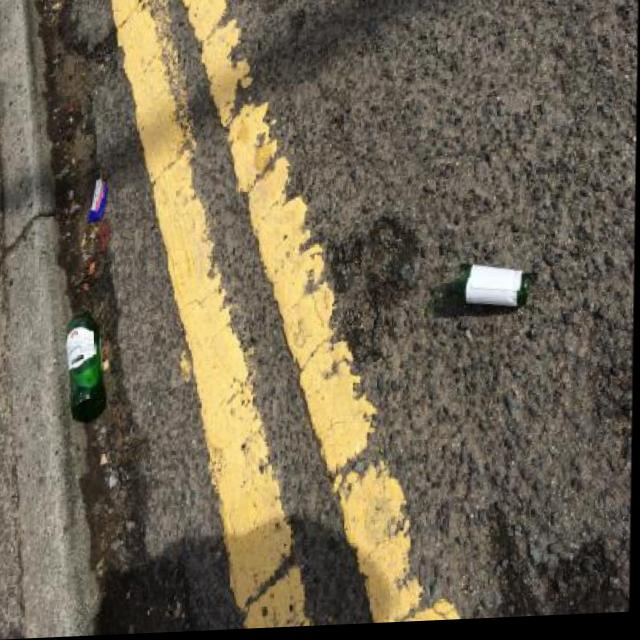glass: (65, 310, 110, 423), (457, 260, 532, 307)
plastic: (89, 177, 111, 222)
